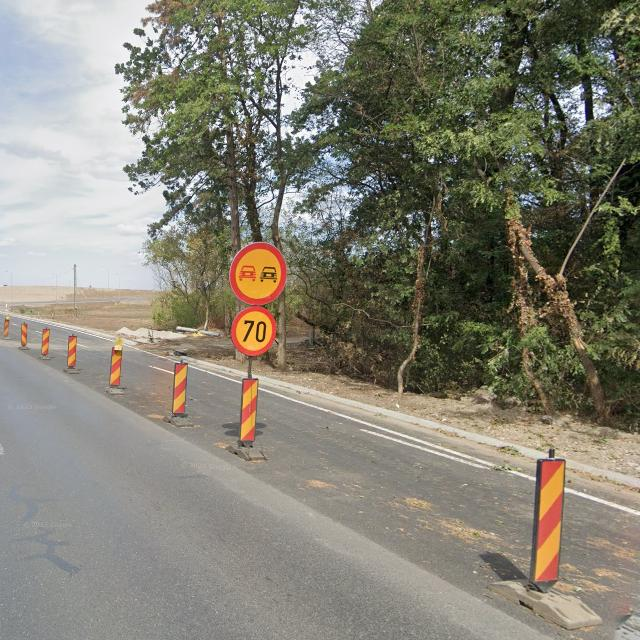forb_overtake: (229, 242, 287, 306)
forb_speed_over_70: (230, 307, 276, 356)
